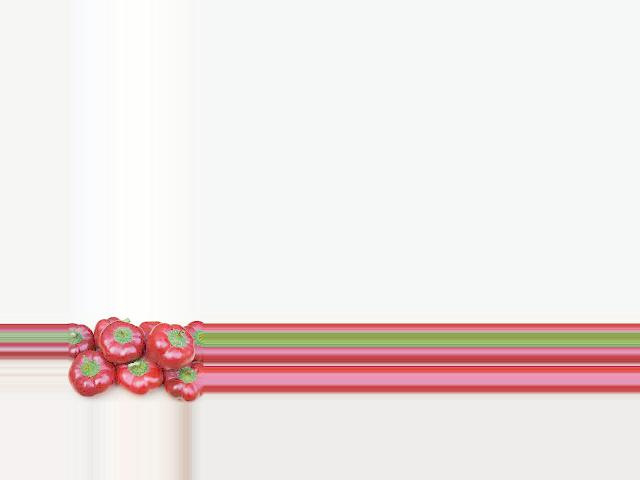bell_pepper: (138, 318, 157, 337)
